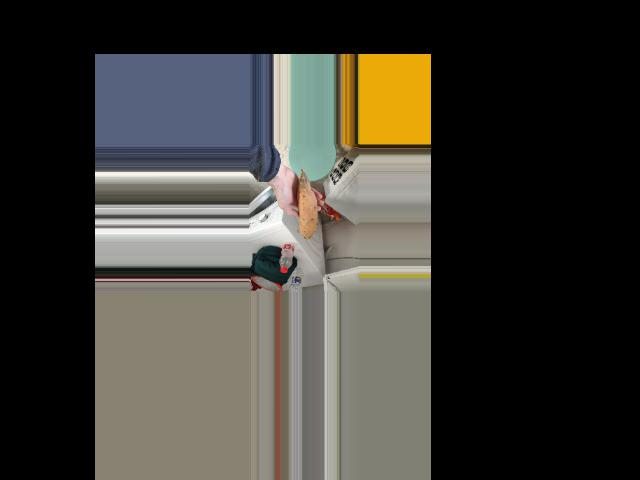sweet_potato: (296, 171, 317, 238)
